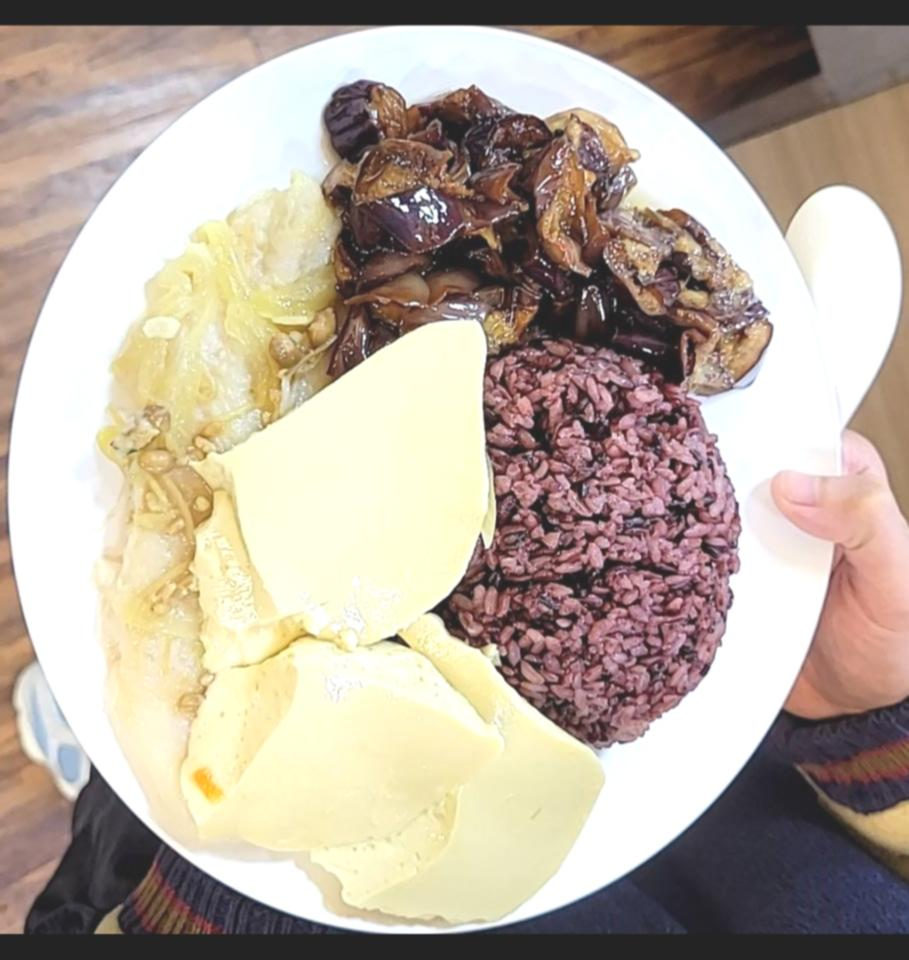plate: (0, 31, 850, 934)
purple rice: (473, 332, 739, 750)
side dish: (176, 319, 601, 930), (324, 70, 774, 396)
steamed fish fillet: (99, 196, 338, 839)
